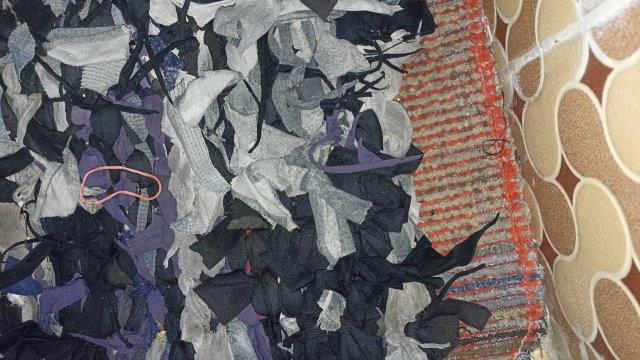karet: (79, 166, 162, 203)
